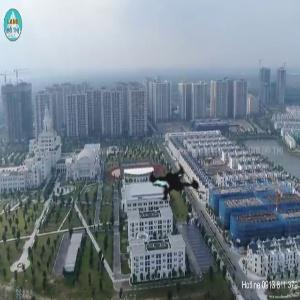drone: (104, 129, 251, 276)
